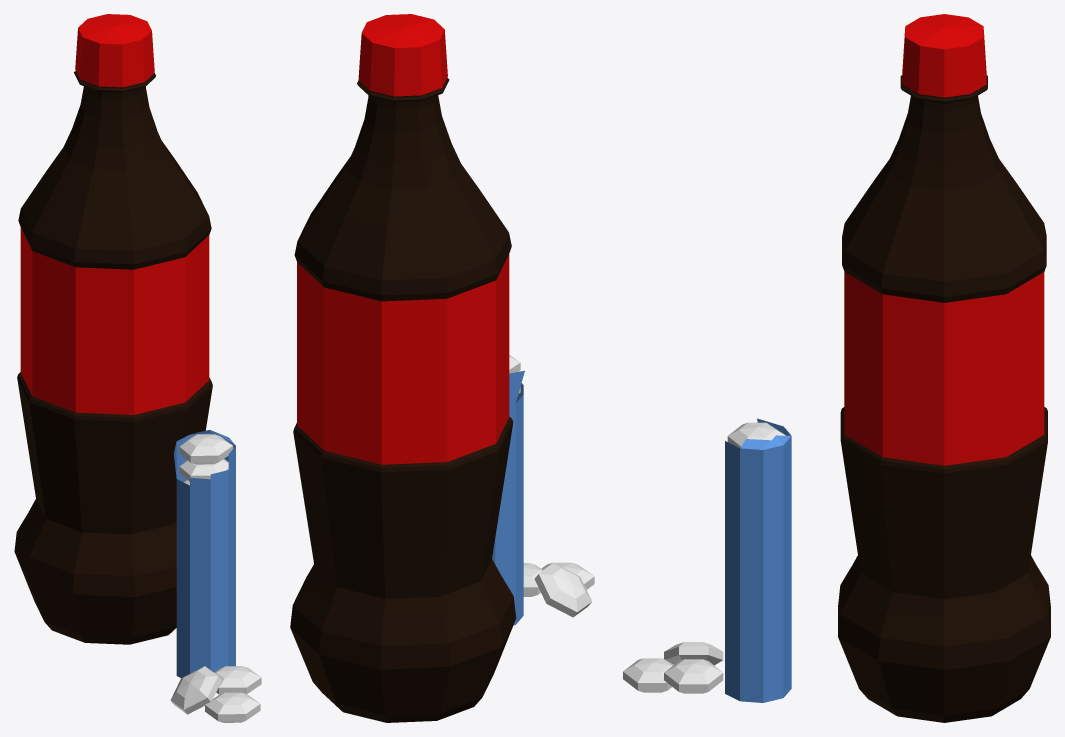
Rendered from GARRAFA DE COCA COM MENTOS.fbx.
The picture shows the model from 3 angles, left to right: view 1: azimuth 30°, elevation 25°; view 2: azimuth 150°, elevation 25°; view 3: azimuth 270°, elevation 25°; orthographic projection. The views are drawn at different scales.
Visible parts, largest first — view 1: Cube, Cylinder; view 2: Cube, Cylinder; view 3: Cube, Cylinder.
Part boxes in pixels (x1,y1,x2,y2): Cube: (14,14,212,644); Cylinder: (170,430,261,722); Cube: (290,14,516,722); Cylinder: (492,355,594,625); Cube: (838,14,1050,722); Cylinder: (623,418,791,702).
Size of the model in its own units: 138 by 446 by 258.
